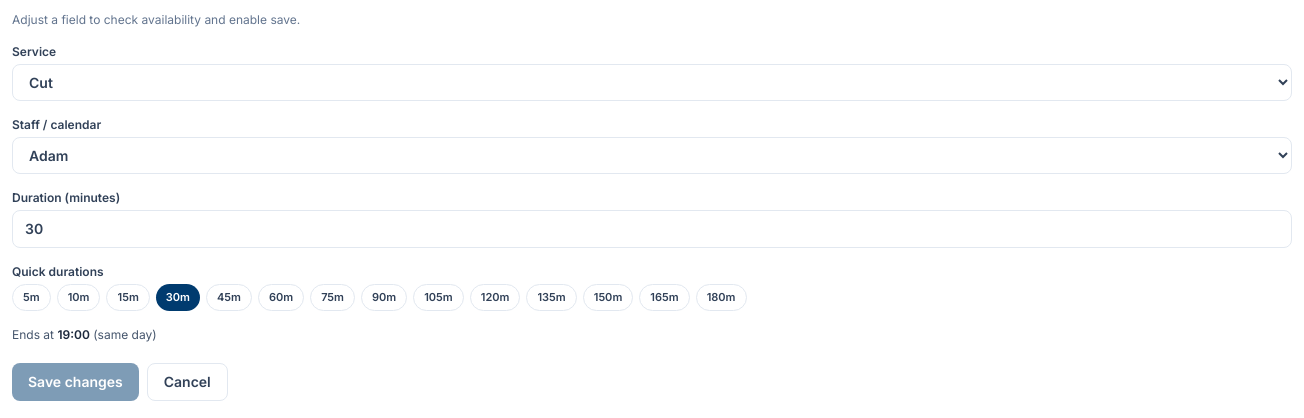
Test: StaffAppointmentModifyForm outside hours › shows no note for a time inside hours
Replace the text in the number field labelled "Duration (minutes)" with "45". click: (652, 229)
box: [12,210,1292,248]
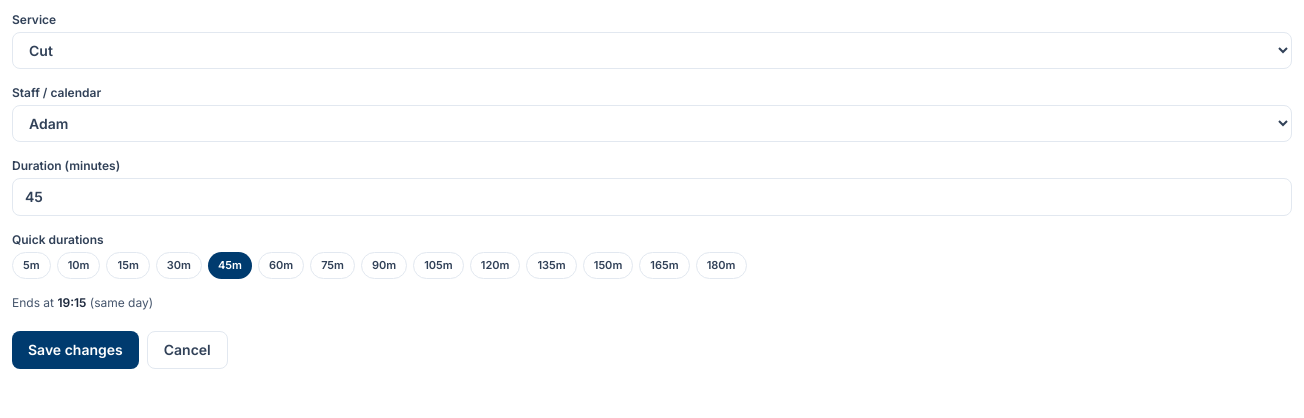
Check: the button "Save changes" is enabled, box [12,330,139,368]
